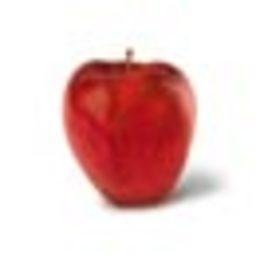apple: (60, 57, 200, 204)
